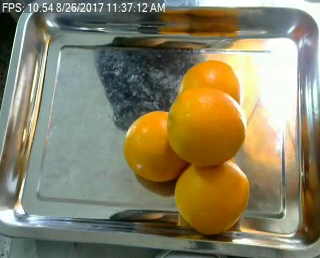Orange: (167, 86, 245, 166), (175, 158, 248, 236), (124, 109, 191, 182), (179, 58, 242, 118)
